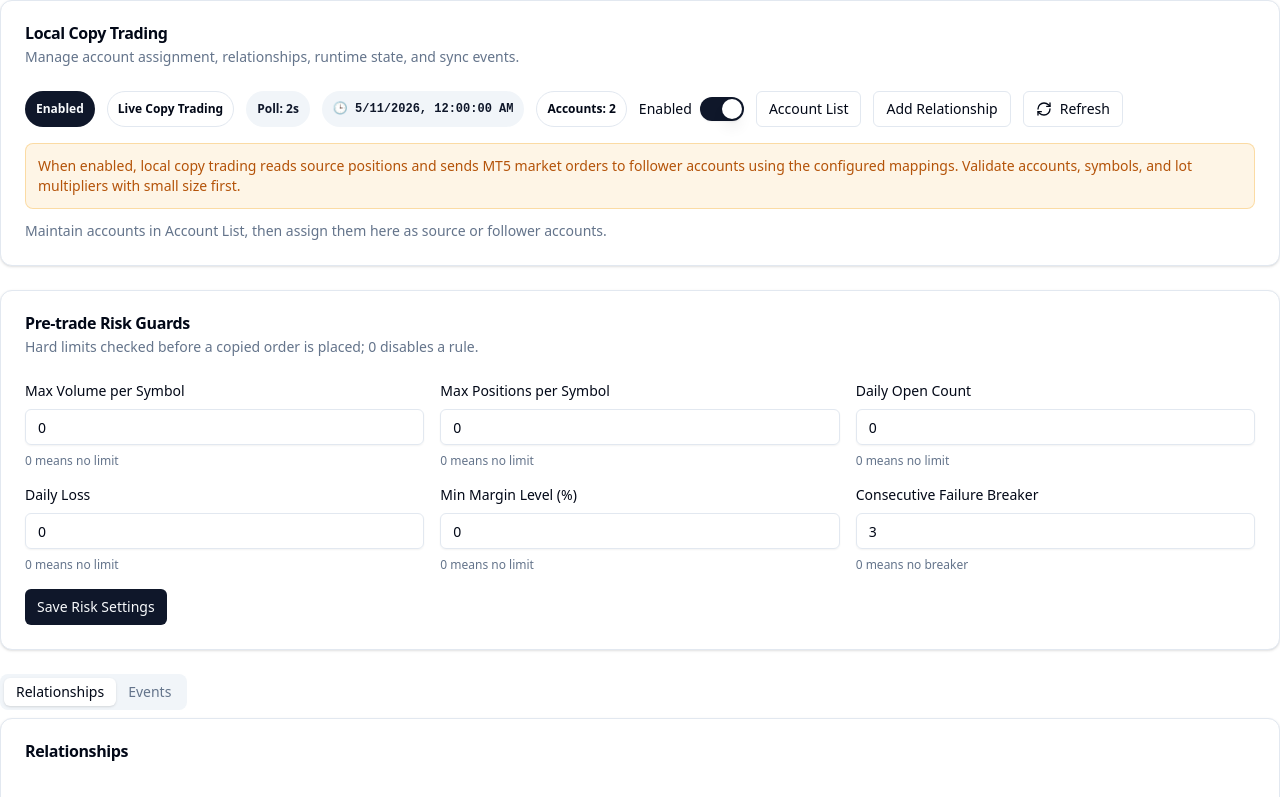
it: Local Copy Trading Page › renders a destructive localized badge for failed events and an amber badge for skipped ones
Click the tab "Events": x=150, y=692 [116,678,183,706]
(page scrolled)
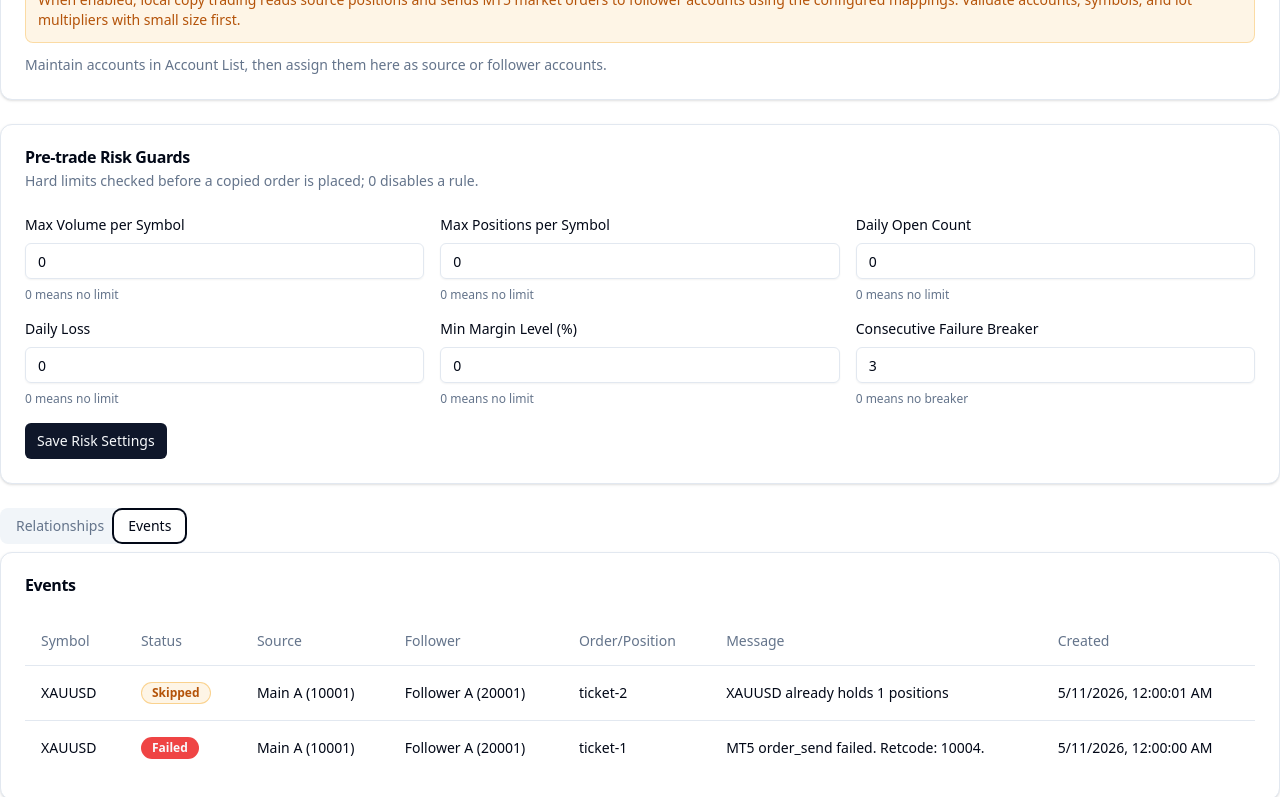
expect the text "Failed" is shown: met, box [141,736,199,758]
